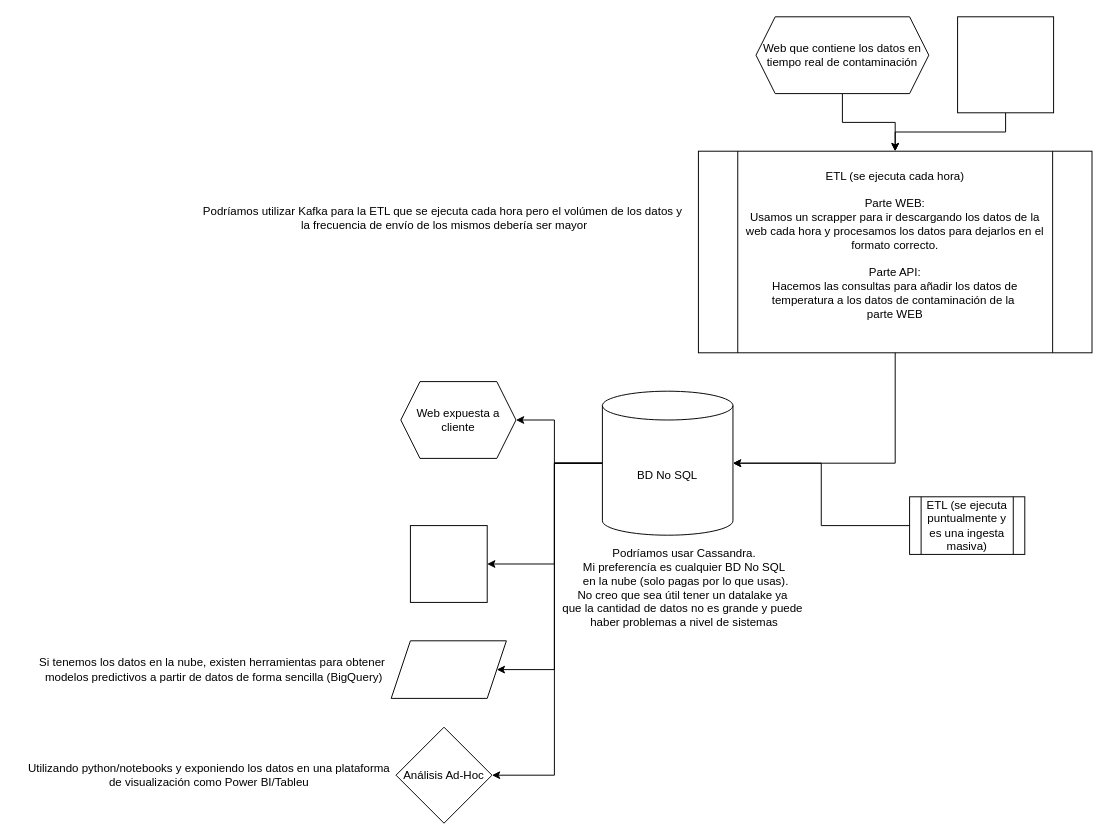
Some shapes in this 1109 by 840 pixel diagram are drawn without their labels. Here are the shapes that lost their labels. From the top down, the centre of each, then its label:
point (1005, 64): API de servicios meteorológicos
point (448, 563): API expuesta a cliente
point (448, 669): Modelo predictivo
